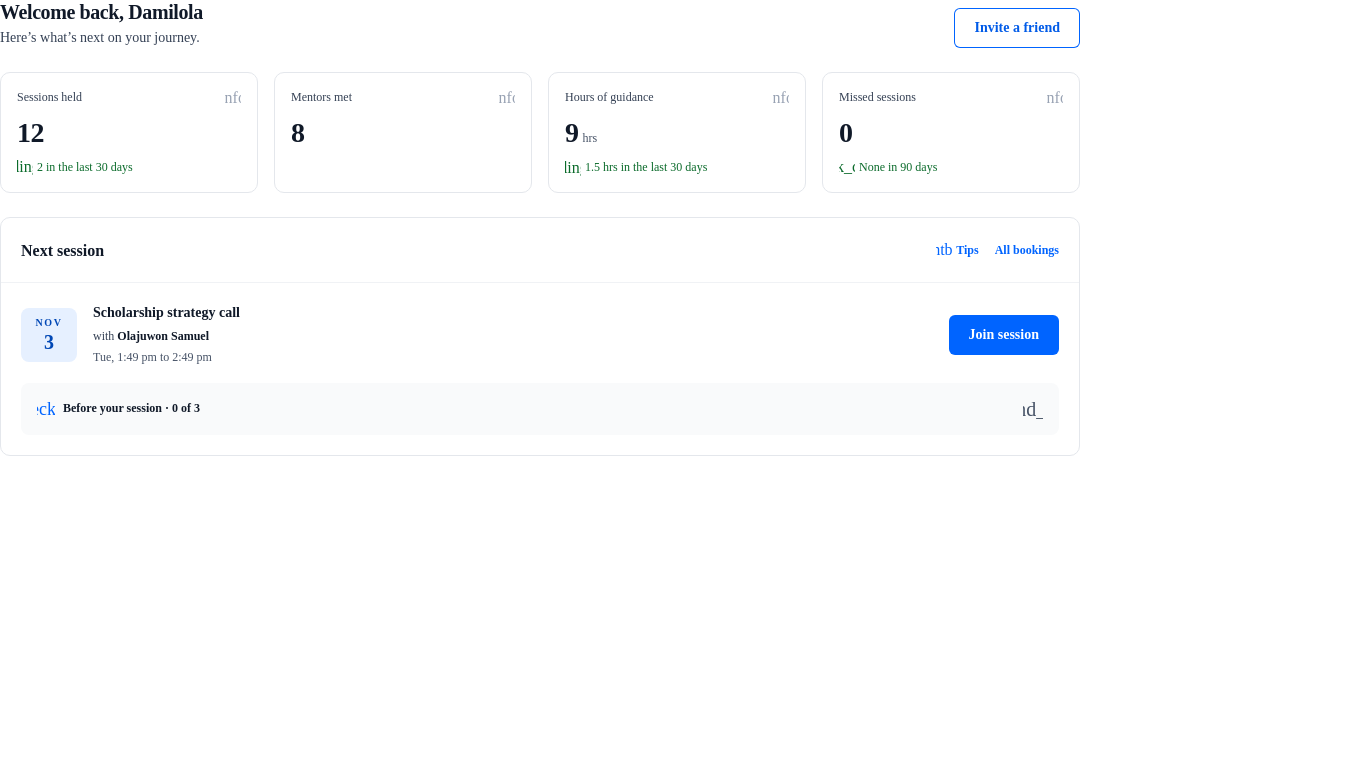
Scenario: MenteeHomeScreen › the Next-session "Tips" link opens the tips modal
The width and height of the screenshot is (1366, 768).
Click the button "lightbulb Tips".
click(957, 250)  # box [936,234,979,266]
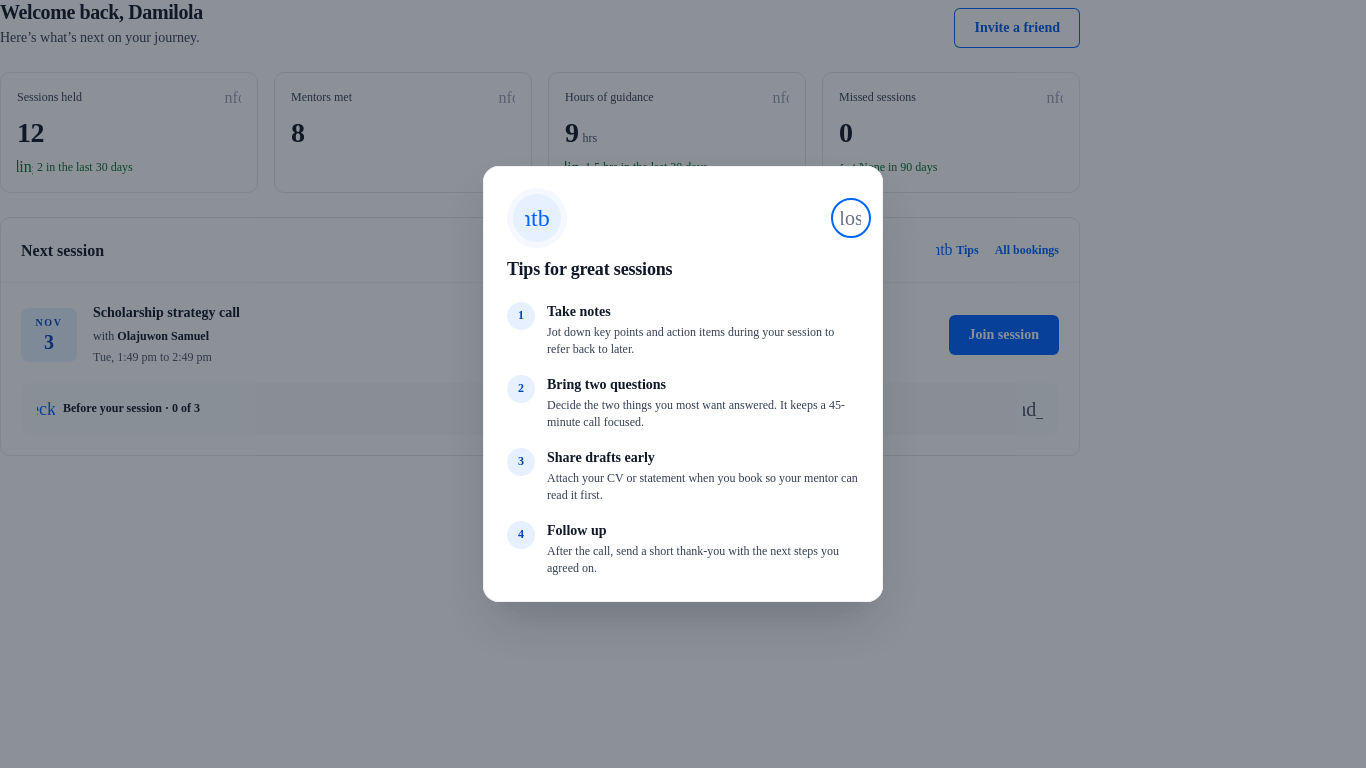
Now the heading "Tips for great sessions" is shown, box [507,259,672,279]
Now the text "Take notes" is shown, box [547,304,611,318]
